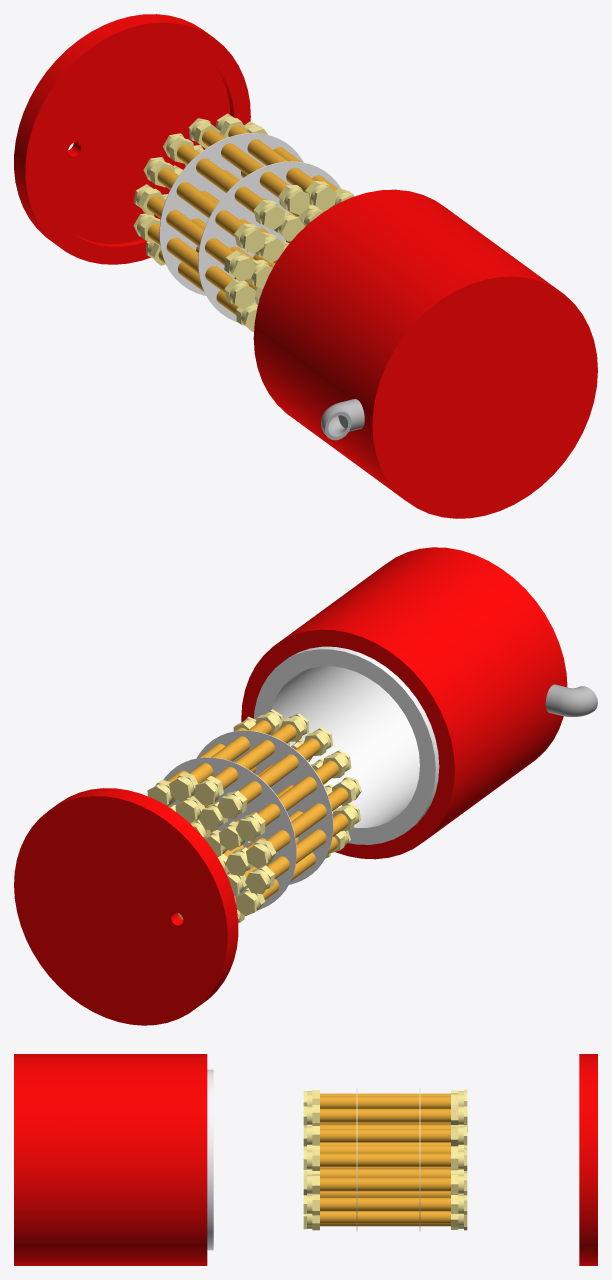
Rendered from TES.GLB.
The picture shows the model from 3 angles, top to bottom: view 1: azimuth 30°, elevation 25°; view 2: azimuth 150°, elevation 25°; view 3: azimuth 270°, elevation 25°; orthographic projection. The views are drawn at different scales.
Parts seen in each view (by area): view 1: bucket-1, bucket_cover-1, Aluminum Plate-1, Aluminum Plate-2, Copper tubes-44, Copper tubes-51, Copper tubes-43, Copper tubes-45, Copper tubes-52, Copper tubes-46, Caps-34, Caps-32 (+4 smaller); view 2: bucket-1, bucket_cover-1, Aluminum Plate-2, Aluminum Plate-1, Copper tubes-44, Copper tubes-51, Copper tubes-43, Copper tubes-45, Copper tubes-52, Copper tubes-46, Caps-31, Caps-45 (+2 smaller); view 3: bucket-1, bucket_cover-1, Copper tubes-46, Copper tubes-37, Copper tubes-40, Copper tubes-50, Copper tubes-36, Copper tubes-45, Copper tubes-35, Copper tubes-58, Copper tubes-60, Copper tubes-33 (+15 smaller).
Boxes of the visible parts, <box> form: bucket-1: <box>253,189,597,518</box>; bucket_cover-1: <box>14,14,250,264</box>; Aluminum Plate-1: <box>159,133,303,295</box>; Aluminum Plate-2: <box>198,161,340,322</box>; Copper tubes-44: <box>157,168,243,236</box>; Copper tubes-51: <box>177,144,263,213</box>; Copper tubes-43: <box>147,196,233,265</box>; Copper tubes-45: <box>202,129,288,197</box>; Copper tubes-52: <box>147,223,233,292</box>; Copper tubes-46: <box>228,125,314,192</box>; Caps-34: <box>278,185,309,214</box>; Caps-32: <box>234,223,265,253</box>; bucket-1: <box>241,547,597,859</box>; bucket_cover-1: <box>14,788,238,1025</box>; Aluminum Plate-2: <box>197,730,333,884</box>; Aluminum Plate-1: <box>163,757,296,909</box>; Copper tubes-44: <box>257,760,338,826</box>; Copper tubes-51: <box>239,738,320,803</box>; Copper tubes-43: <box>266,787,348,852</box>; Copper tubes-45: <box>214,724,296,789</box>; Copper tubes-52: <box>267,813,348,879</box>; Copper tubes-46: <box>189,720,271,783</box>; Caps-31: <box>235,812,265,841</box>; Caps-45: <box>217,790,247,819</box>; bucket-1: <box>14,1054,213,1265</box>; bucket_cover-1: <box>579,1054,597,1265</box>; Copper tubes-46: <box>320,1108,450,1122</box>; Copper tubes-37: <box>320,1197,450,1211</box>; Copper tubes-40: <box>320,1177,450,1191</box>; Copper tubes-50: <box>320,1129,450,1142</box>; Copper tubes-36: <box>320,1153,450,1166</box>; Copper tubes-45: <box>320,1096,450,1108</box>; Copper tubes-35: <box>320,1211,450,1223</box>; Copper tubes-58: <box>320,1169,450,1177</box>; Copper tubes-60: <box>320,1145,450,1153</box>; Copper tubes-33: <box>320,1191,450,1197</box>.
Size of the model in its own units: 0.4 by 0.34 by 0.9363.
